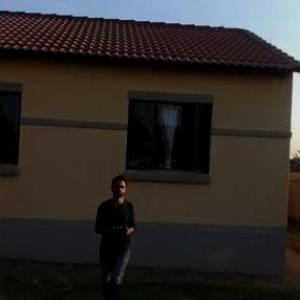follow: (91, 176, 146, 299)
